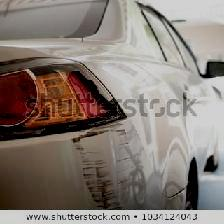tail_lamp: (24, 61, 156, 211)
